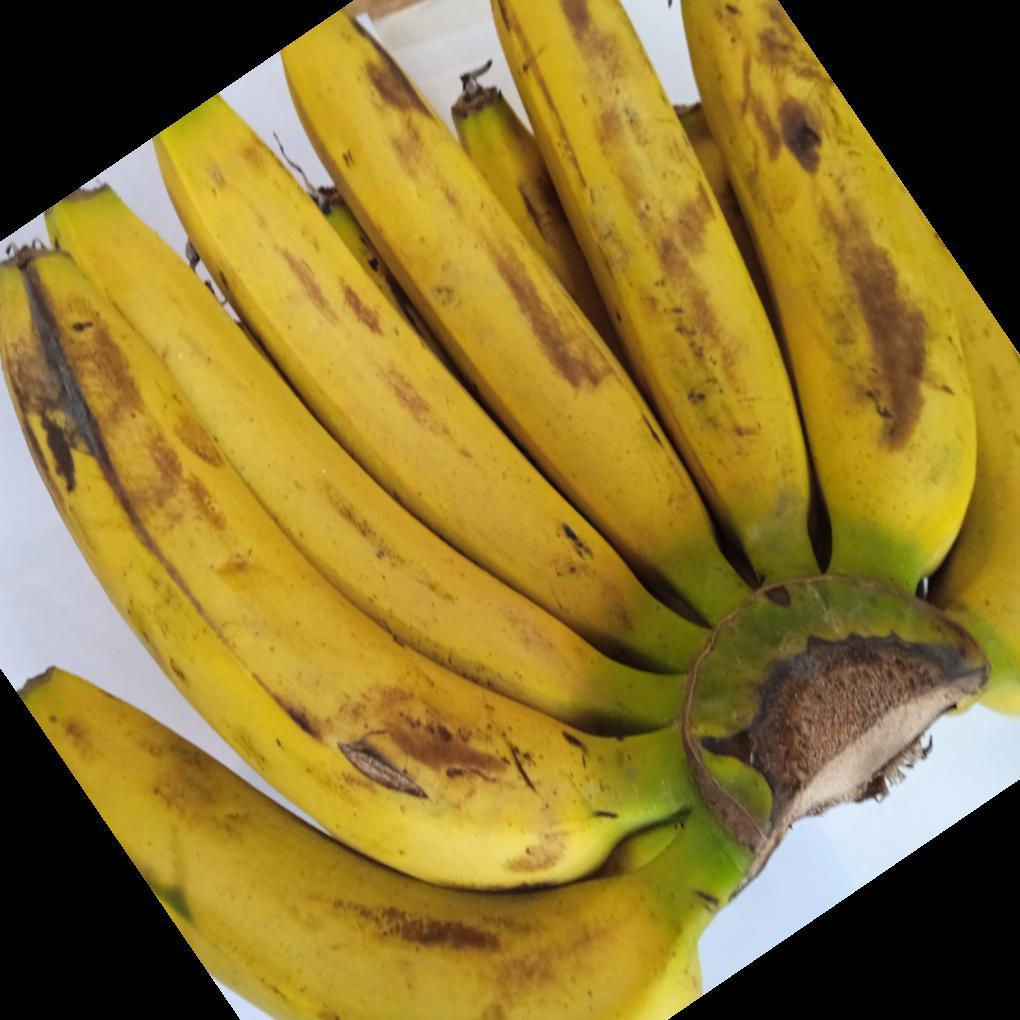Banana Ripe: (0, 168, 890, 1020), (143, 0, 917, 920), (392, 3, 1020, 801)
